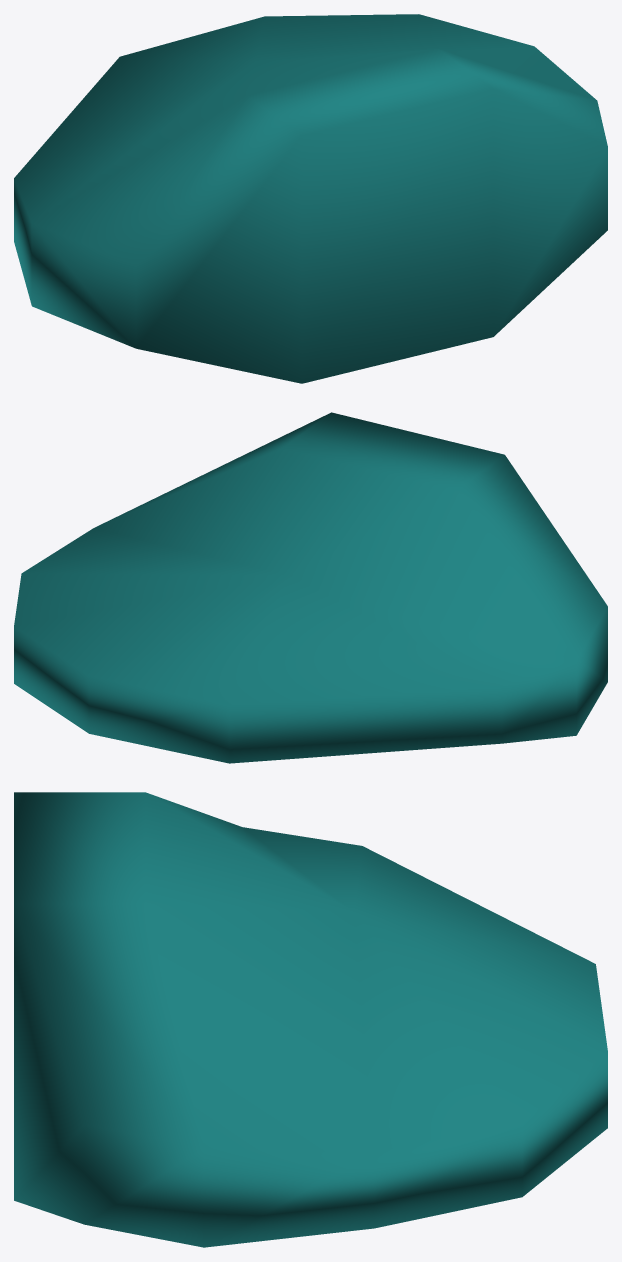
The model's file is ski_goggles_colliders.fbx.
The picture shows the model from 3 angles, top to bottom: view 1: azimuth 30°, elevation 25°; view 2: azimuth 150°, elevation 25°; view 3: azimuth 270°, elevation 25°; orthographic projection. The views are drawn at different scales.
Visible parts, largest first — view 1: ski_goggles_colliders; view 2: ski_goggles_colliders; view 3: ski_goggles_colliders.
Part boxes in pixels (left/top/right/bottom): ski_goggles_colliders: left=14, top=14, right=607, bottom=383; ski_goggles_colliders: left=14, top=412, right=607, bottom=763; ski_goggles_colliders: left=14, top=792, right=607, bottom=1247.
Bounding box in the file's own units: 25.54 × 10.85 × 19.7.
